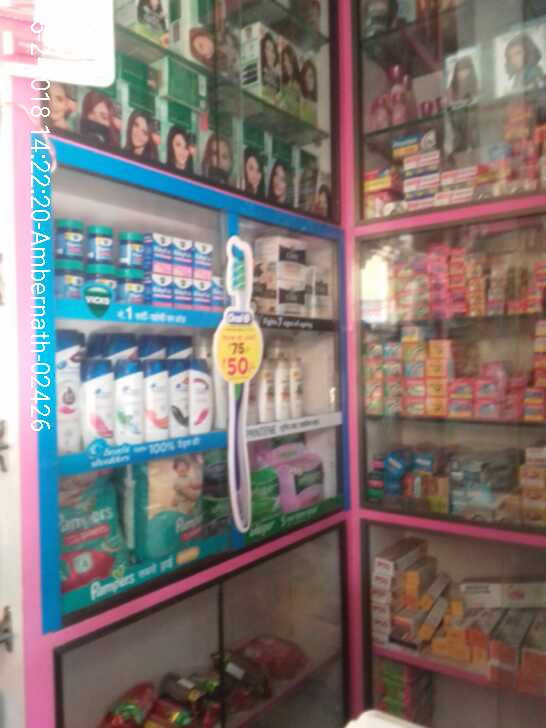vicks: (55, 212, 142, 307), (149, 233, 225, 310)
